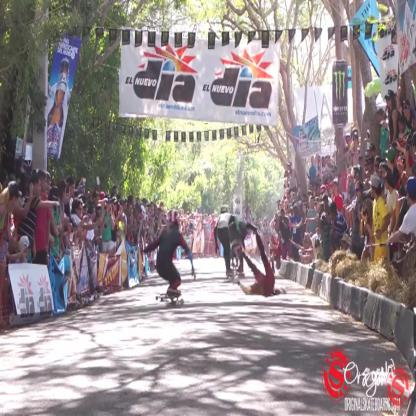Fall_Down: (232, 220, 288, 300)
